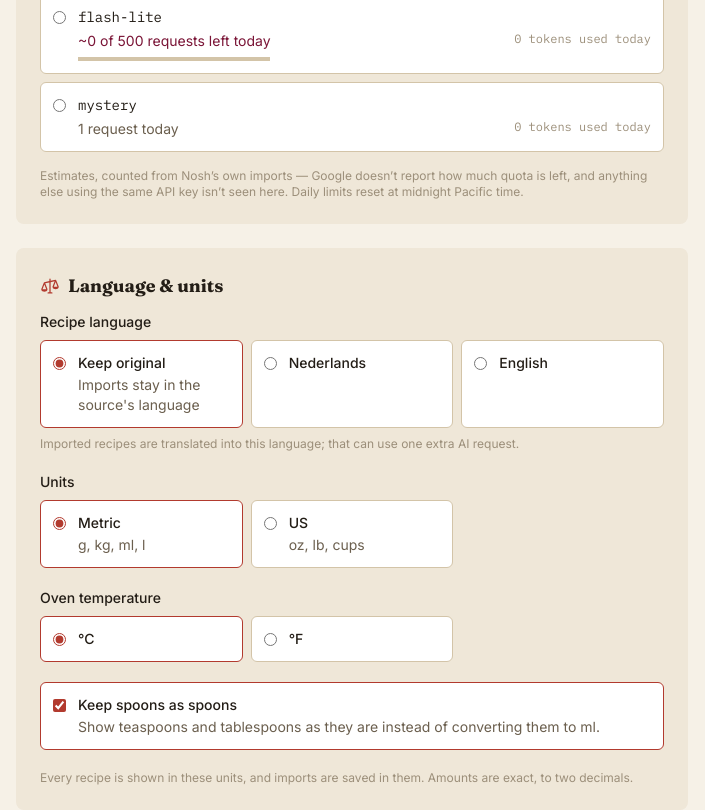
Test: SettingsPage — language & units › snaps back and says so when saving fails
(page scrolled)
Click the checkbox labelled "Keep spoons" at (60, 706), box [53,699,66,712]
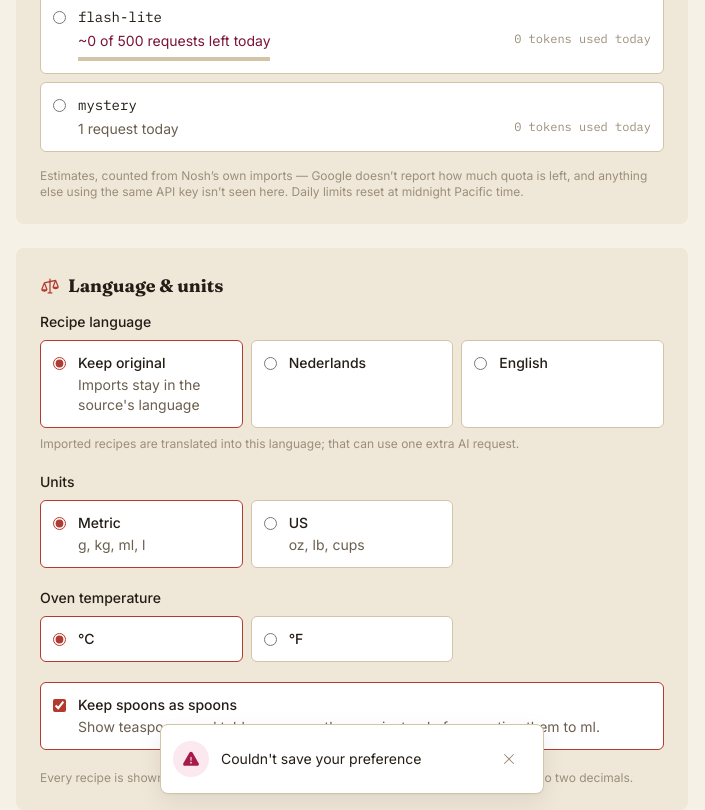
expect the text "Couldn't save your preference" is shown: met, box [221,750,421,767]
